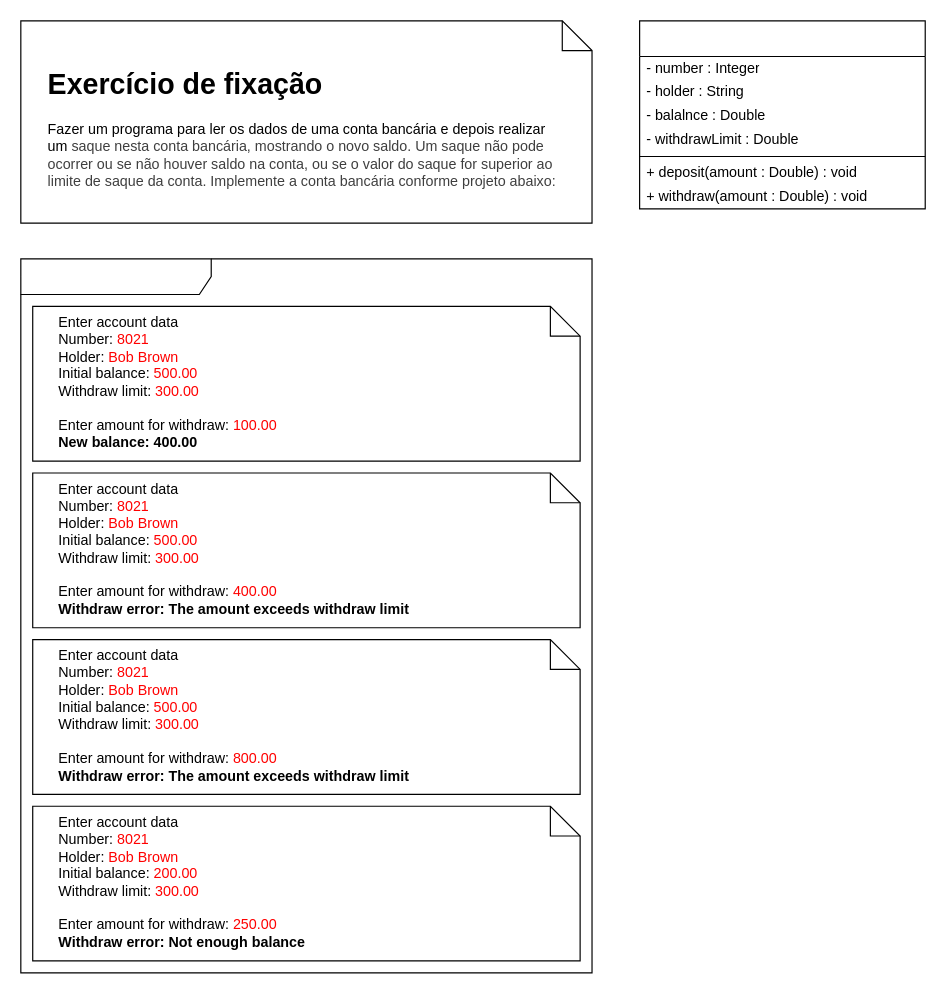
This 946x994 diagram has some shape labels left out. The box of each missing label's shape, as (x1, y1, x2, y2) in pixels:
Account: (638, 20, 925, 209)
Examples: (20, 258, 592, 973)
